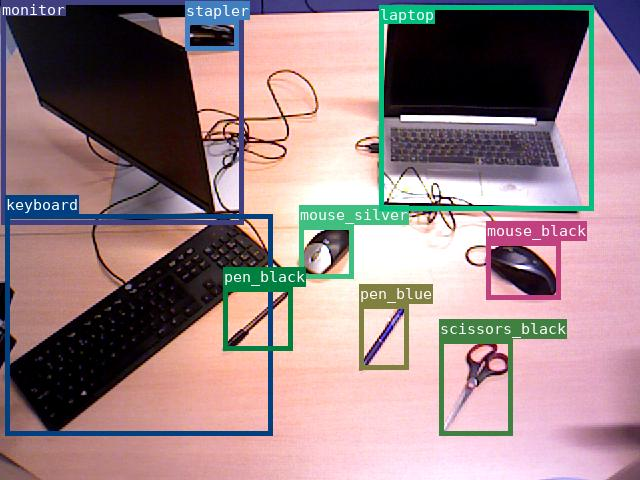keyboard: (5, 214, 272, 435)
laptop: (379, 5, 593, 210)
monitor: (1, 0, 243, 224)
mouse_black: (486, 241, 560, 299)
mouse_silver: (299, 225, 353, 278)
pen_black: (223, 287, 292, 350)
pen_blue: (359, 304, 408, 369)
scissors_black: (439, 339, 512, 435)
stapler: (185, 20, 238, 50)
